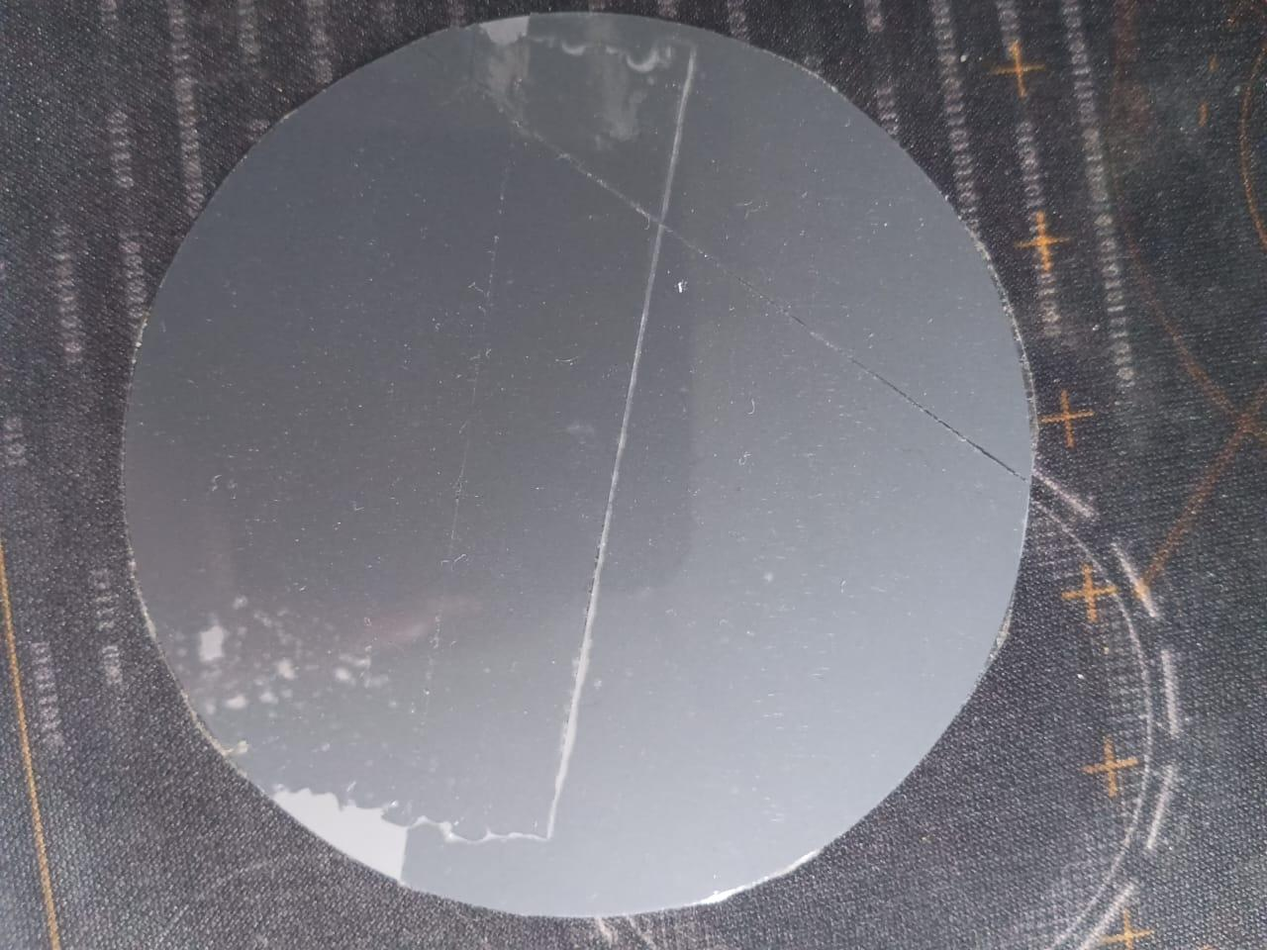crack: (528, 120, 1031, 488), (541, 50, 701, 847)
scratch: (256, 768, 412, 888), (422, 793, 536, 881), (616, 31, 672, 83), (475, 9, 541, 53), (188, 621, 231, 666), (330, 653, 379, 690), (272, 647, 300, 684), (223, 686, 250, 721)
